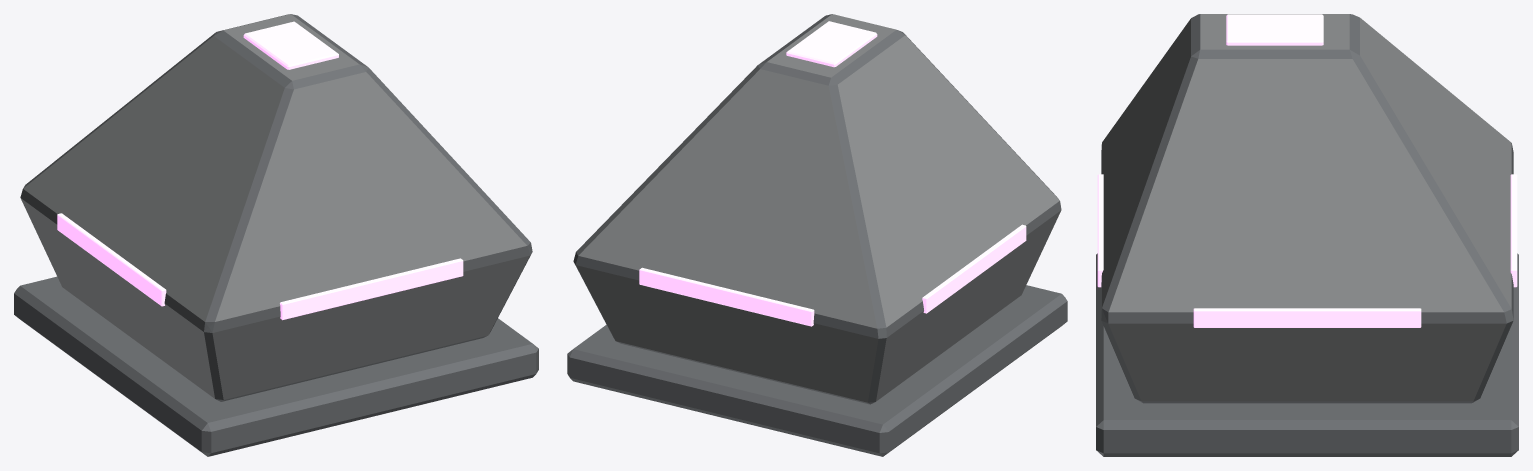
Rendered from R4X_Stealth_LOD1.glb.
3 views of the same model, side by side, from view 1: azimuth 30°, elevation 25°; view 2: azimuth 150°, elevation 25°; view 3: azimuth 270°, elevation 25° (orthographic). The views are drawn at different scales.
Parts seen in each view (by area): view 1: R4X_Stealth_LOD1; view 2: R4X_Stealth_LOD1; view 3: R4X_Stealth_LOD1.
Part boxes in pixels (x1,y1,x2,y2): R4X_Stealth_LOD1: (14,14,538,456); R4X_Stealth_LOD1: (567,14,1067,456); R4X_Stealth_LOD1: (1096,14,1518,456).
Size of the model in its own units: 0.52 by 0.466 by 0.52.
